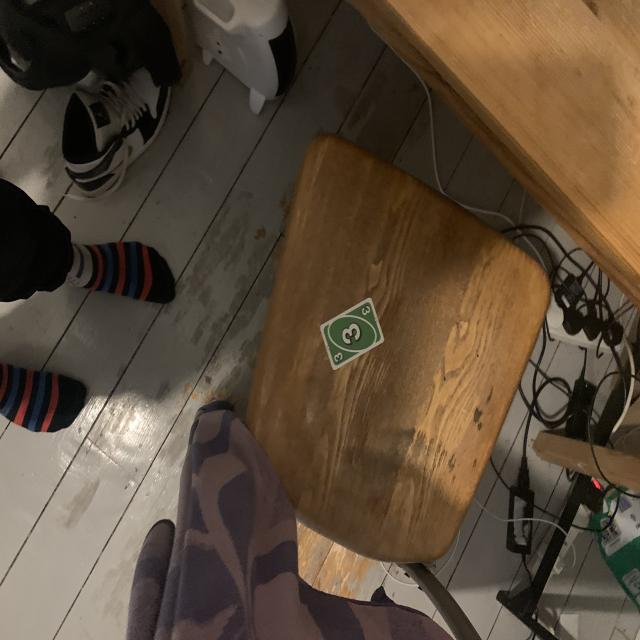lgreen-3: (360, 304, 371, 316)
